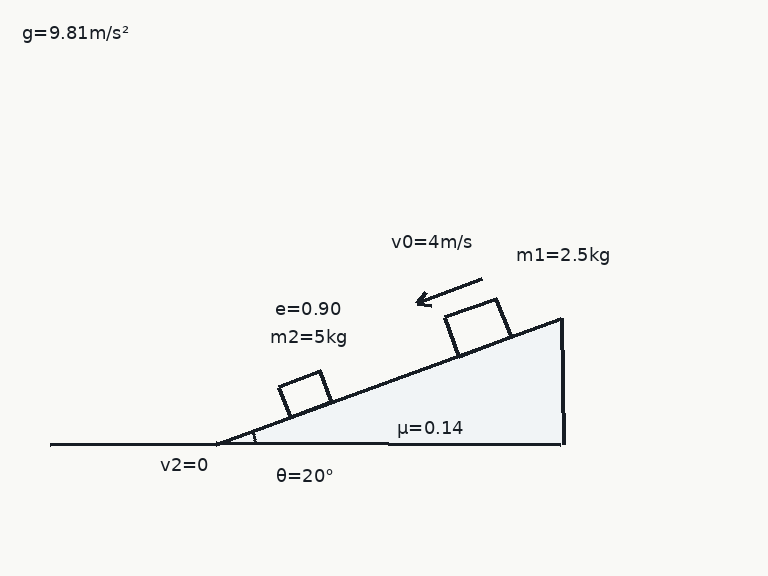block: (442, 296, 512, 358), (277, 369, 333, 419)
ramp: (213, 316, 564, 446)
